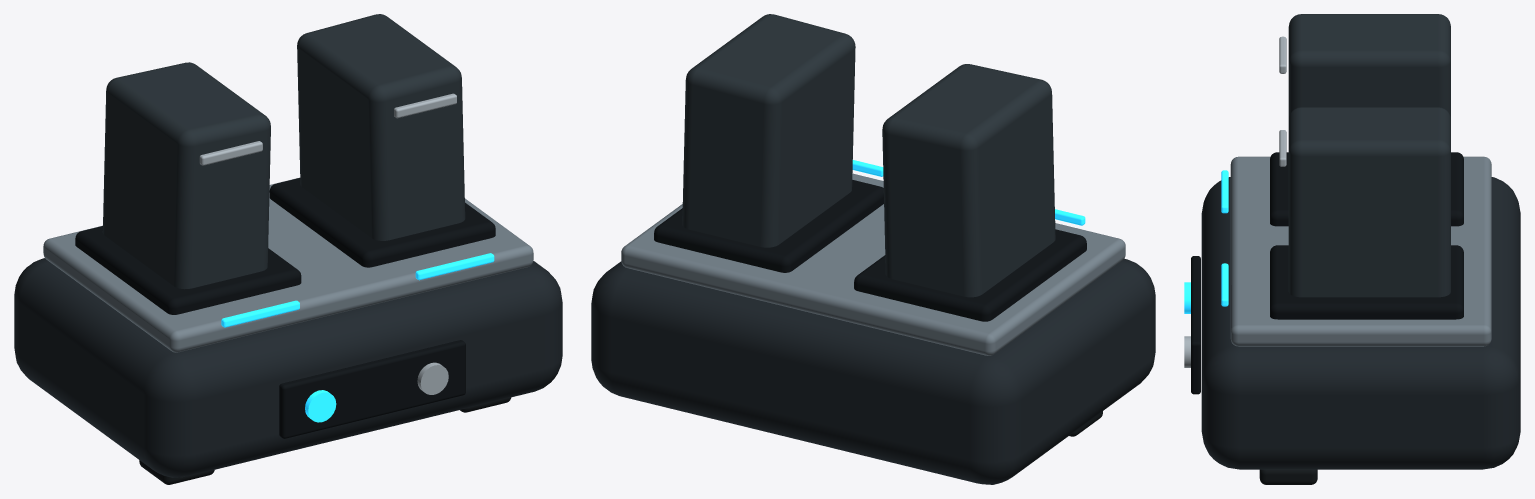
File: drive-docking-station.glb
3 views of the same model, side by side, from view 1: azimuth 30°, elevation 25°; view 2: azimuth 150°, elevation 25°; view 3: azimuth 270°, elevation 25° (orthographic). The views are drawn at different scales.
Visible parts, largest first — view 1: Inserted storage drive (×2), Drive dock base, Dock top, Drive bay (×2), Front controls, Bay status (×2), Drive label (×2), Eject control, Clone button, Professional dual-bay drive docking station; view 2: Drive dock base, Inserted storage drive (×2), Dock top, Drive bay (×2); view 3: Drive dock base, Inserted storage drive (×2), Dock top, Drive bay (×2), Front controls, Professional dual-bay drive docking station.
Part boxes in pixels (x1,y1,x2,y2): Inserted storage drive (×2): (102, 14, 465, 289); Drive dock base: (14, 258, 562, 477); Dock top: (43, 177, 533, 352); Drive bay (×2): (75, 178, 495, 314); Front controls: (279, 340, 465, 438); Bay status (×2): (221, 253, 494, 327); Drive label (×2): (199, 93, 456, 165); Eject control: (417, 362, 448, 394); Clone button: (305, 390, 336, 422); Professional dual-bay drive docking station: (139, 397, 511, 484); Drive dock base: (591, 258, 1155, 484); Inserted storage drive (×2): (682, 14, 1055, 297); Dock top: (621, 173, 1125, 355); Drive bay (×2): (654, 180, 1086, 321); Drive dock base: (1201, 177, 1520, 469); Inserted storage drive (×2): (1288, 14, 1450, 297); Dock top: (1230, 156, 1491, 346); Drive bay (×2): (1270, 152, 1463, 319); Front controls: (1191, 256, 1200, 394); Professional dual-bay drive docking station: (1259, 469, 1317, 484).
Size of the model in its own units: 1.62 by 1.24 by 1.16.
